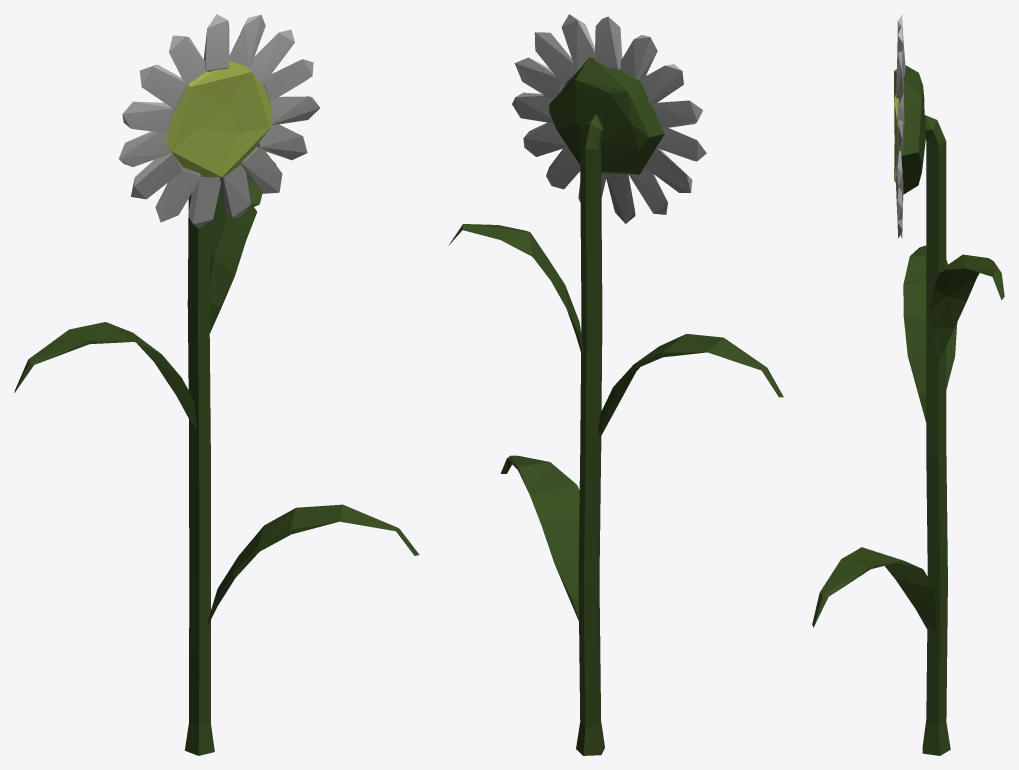
Rendered from Sunflower_02.fbx.
3 renders of one model, left to right at view 1: azimuth 30°, elevation 25°; view 2: azimuth 150°, elevation 25°; view 3: azimuth 270°, elevation 25°, orthographic. The views are drawn at different scales.
Visible parts, largest first — view 1: Sunflower_02; view 2: Sunflower_02; view 3: Sunflower_02.
Part boxes in pixels (<box>): Sunflower_02: <box>14,14,419,755</box>; Sunflower_02: <box>448,14,783,755</box>; Sunflower_02: <box>812,14,1004,755</box>.
Bounding box in the file's own units: 0.5777 × 1.18 × 0.2842.
